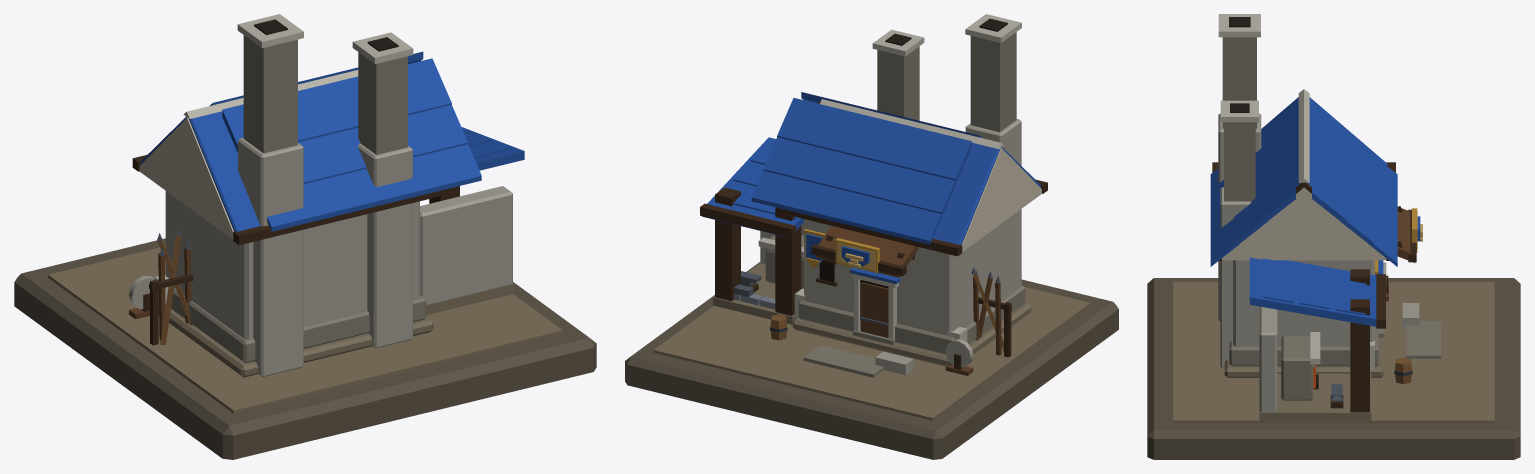
File: 铁匠铺_3星.glb
3 renders of one model, left to right at view 1: azimuth 30°, elevation 25°; view 2: azimuth 150°, elevation 25°; view 3: azimuth 270°, elevation 25°, orthographic. The views are drawn at different scales.
Visible parts, largest first — view 1: 铁匠铺_3星; view 2: 铁匠铺_3星; view 3: 铁匠铺_3星.
Part boxes in pixels (bbox=[...]): 铁匠铺_3星: bbox=[14, 14, 596, 459]; 铁匠铺_3星: bbox=[625, 14, 1118, 459]; 铁匠铺_3星: bbox=[1147, 14, 1520, 459].
Bounding box in the file's own units: 1 × 0.9508 × 1.
